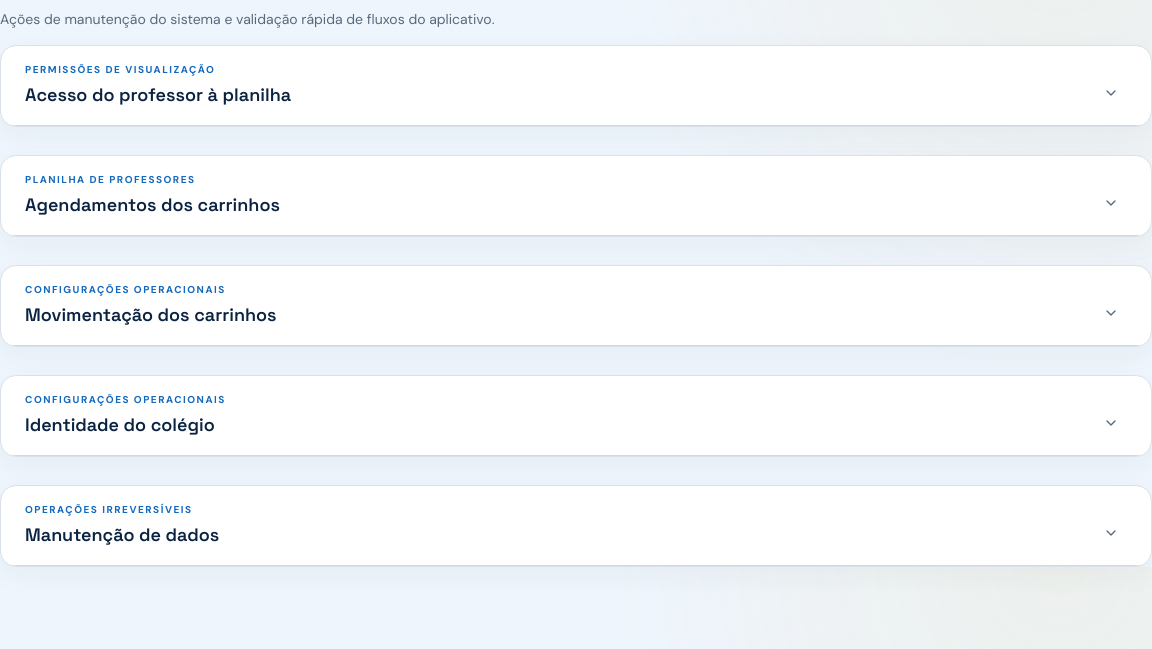
Scenario: configuration data maintenance › does not run maintenance when superadministrator verification fails
Click the button named "Maximizar Manutenção de dados" at coordinates (1111, 533), box [1095,517,1127,549]
(page scrolled)
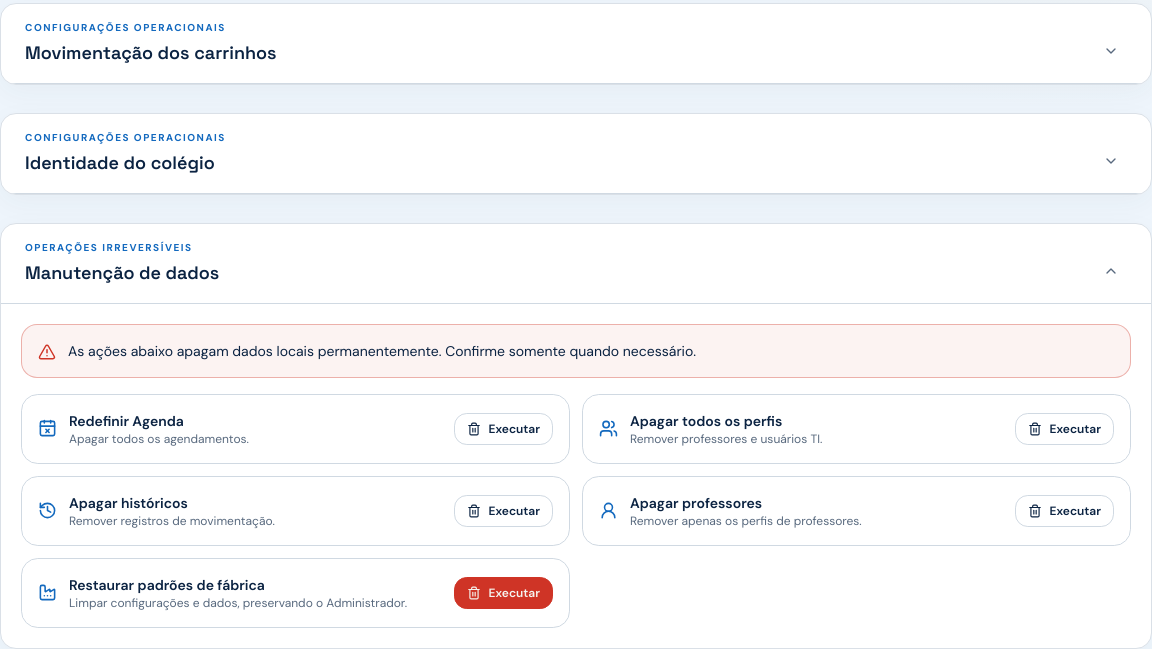
Click the button "Executar" in the row of "Remover professores e usuários TI." at coordinates (1064, 429), box [1015,413,1114,445]
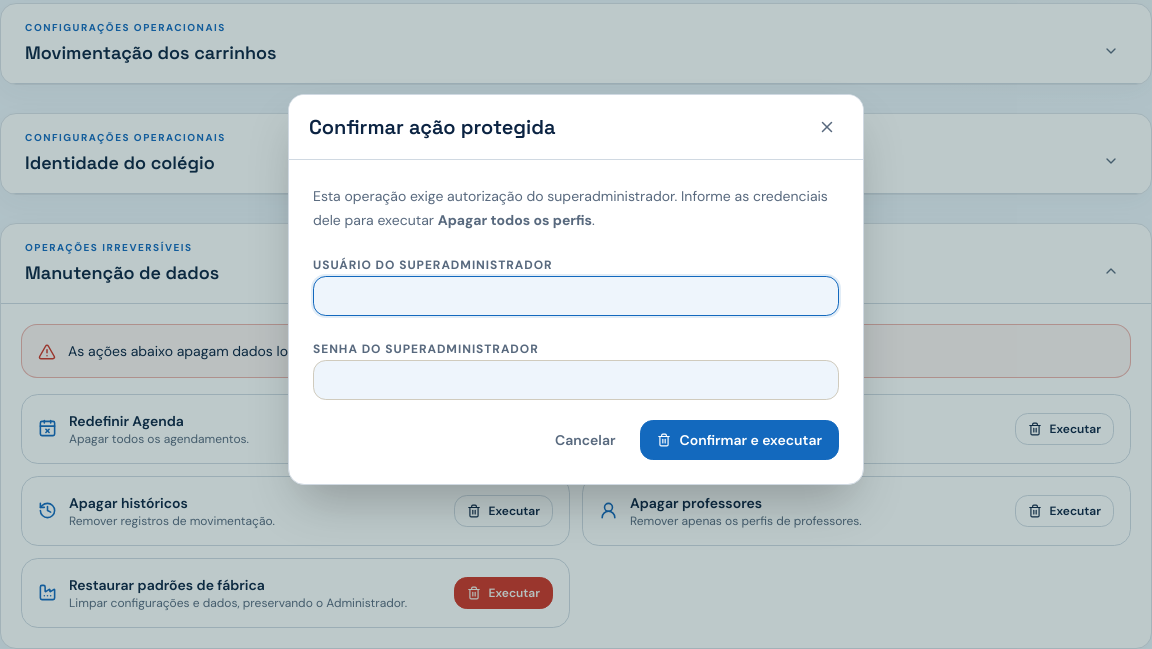
Type "Administrador Raiz" into the field labelled "Usuário do superadministrador" at coordinates (576, 296), box [313,276,839,316]
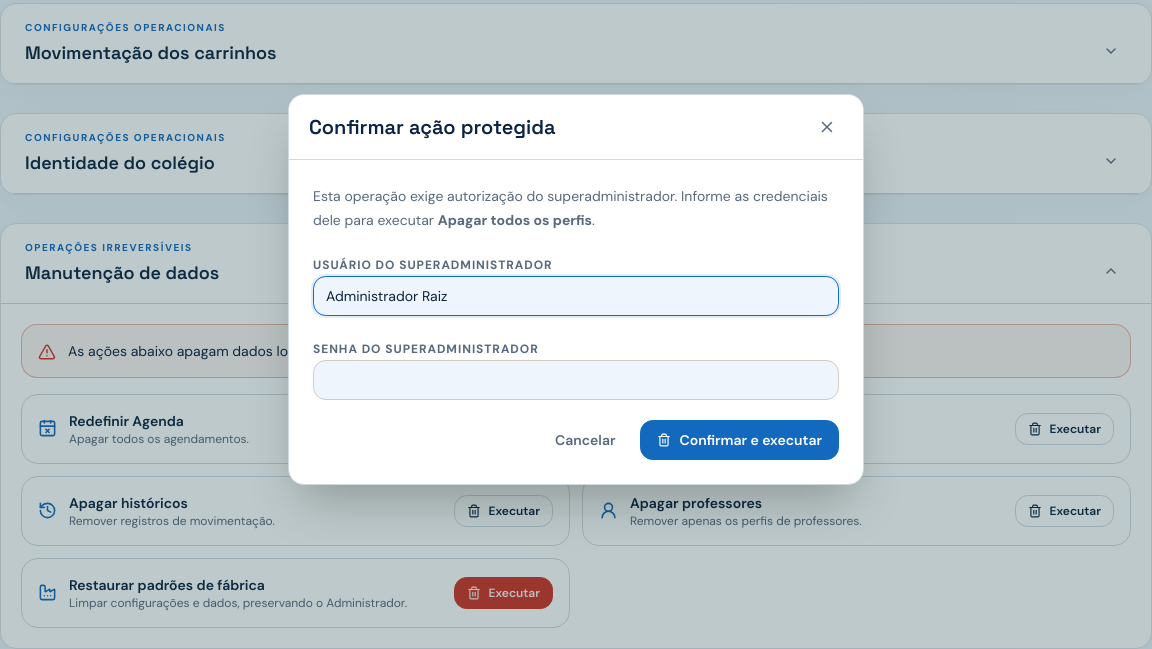
Type "senha-super-admin" into the password field labelled "Senha do superadministrador" at coordinates (576, 380), box [313,360,839,400]
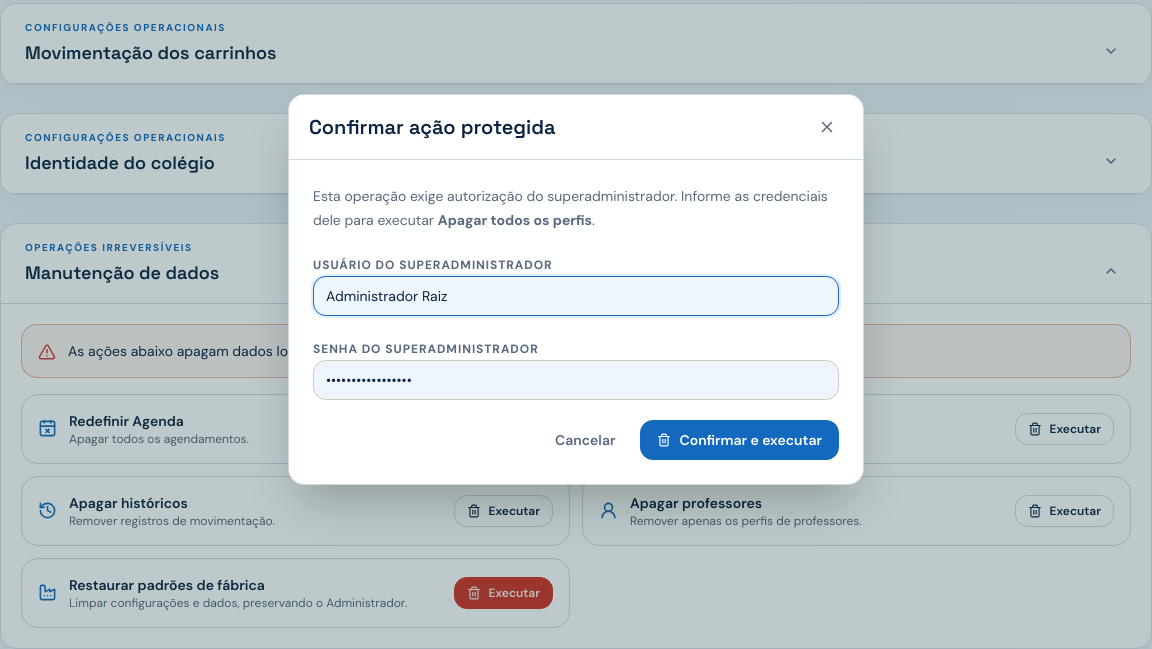
Submit the form named "confirmar e executar", box [289,160,863,484]
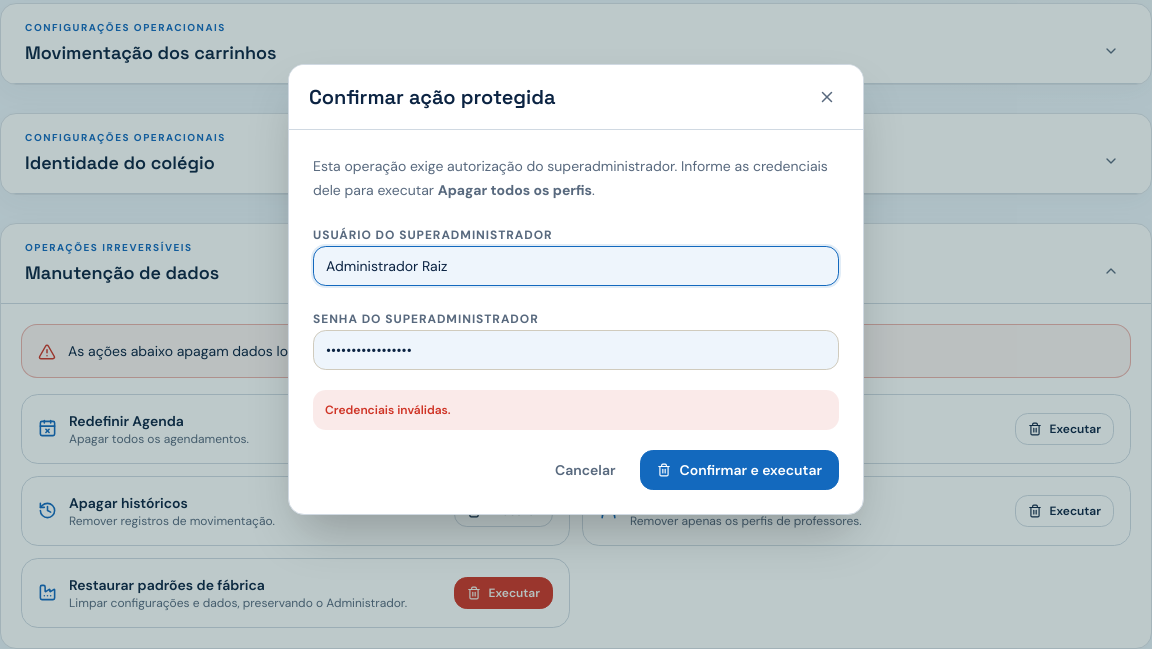
Now the message reads "Credenciais inválidas.", box [325,402,451,418]
